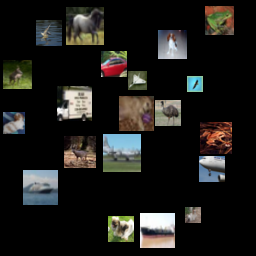airplane: (103, 134, 141, 172), (199, 156, 225, 182), (128, 71, 147, 90)
automobile: (101, 51, 127, 77)
bird: (36, 20, 62, 46), (155, 100, 181, 126), (187, 76, 203, 92)
deer: (64, 136, 96, 168), (3, 60, 32, 89)
dog: (119, 96, 154, 131), (158, 30, 187, 59), (108, 216, 134, 242), (3, 112, 25, 134), (185, 207, 201, 223)
frog: (200, 122, 232, 154), (205, 6, 234, 35)
ship: (140, 213, 175, 248), (23, 170, 58, 205)
